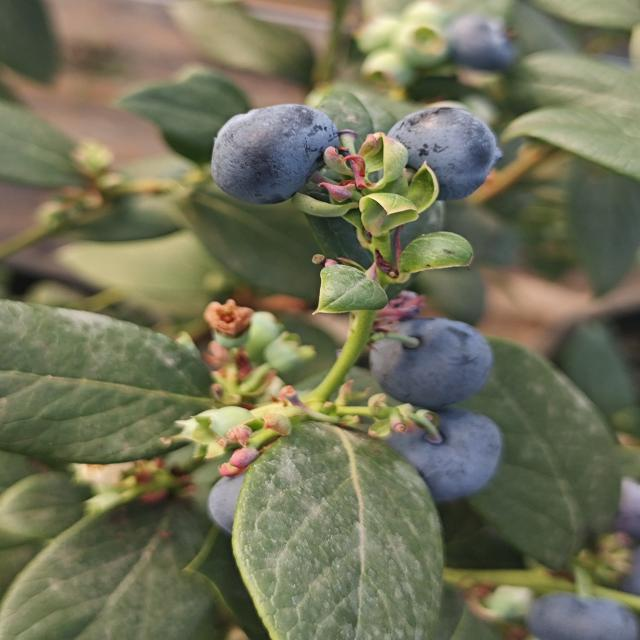ripe: (202, 91, 348, 212), (343, 304, 499, 414), (384, 91, 512, 208), (378, 402, 508, 512), (204, 458, 299, 537), (521, 577, 640, 640), (586, 468, 640, 592), (438, 12, 526, 74)
